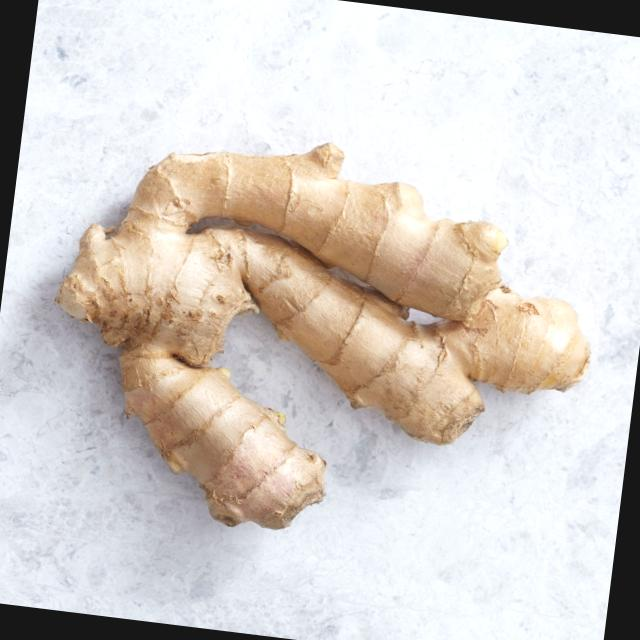ginger-root: (15, 101, 618, 588)
